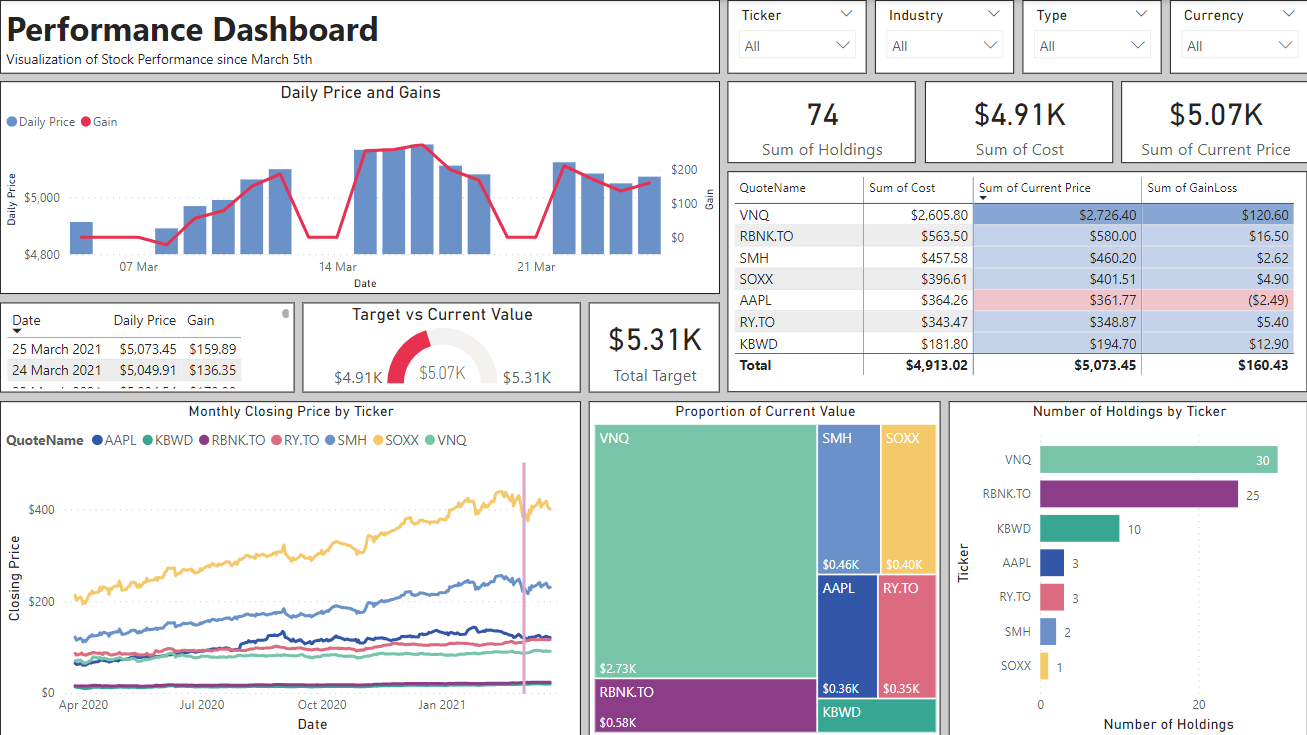

What the dashboard file says about the page in this screenshot:
{"tool":"powerbi","page":{"name":"Overview","canvas":[1280,720],"ordinal":0},"visuals":[{"type":"lineChart","title":"Monthly Closing Price by Ticker","fields":{"Category":["Sheet1.Date"],"Y":["Sum(Sheet1.Close)"],"Series":["Sheet1.QuoteName"]},"box":[0,392,568,328],"z":0},{"type":"clusteredBarChart","title":"Number of Holdings by Ticker","fields":{"Category":["holdings.QuoteName"],"Y":["Sum(holdings.Holdings)"]},"box":[928,392,352,328],"z":1000},{"type":"card","fields":{"Values":["Sum(holdings.Cost)"]},"box":[904,80,184,80],"z":2000},{"type":"card","fields":{"Values":["Sum(holdings.Holdings)"]},"box":[712,80,184,80],"z":3000},{"type":"card","fields":{"Values":["Sum(holdings.RecentCost)"]},"box":[1096,80,184,80],"z":4000},{"type":"slicer","fields":{"Values":["holdings.QuoteName"]},"box":[712,0,136,72],"z":5000},{"type":"treemap","title":"Proportion of Current Value","fields":{"Values":["Sum(holdings.RecentCost)"],"Group":["holdings.QuoteName"]},"box":[576,392,344,328],"z":6000},{"type":"tableEx","fields":{"Values":["holdings.QuoteName","Sum(holdings.Cost)","holdings.RecentCost","holdings.GainLoss"]},"box":[712,168,568,216],"z":7000},{"type":"slicer","fields":{"Values":["type.Industry"]},"box":[856,0,136,72],"z":8000},{"type":"slicer","fields":{"Values":["type.Type"]},"box":[1000,0,136,72],"z":9000},{"type":"slicer","fields":{"Values":["type.Currency"]},"box":[1144,0,136,72],"z":10000},{"type":"textbox","box":[0,0,704,72],"z":11000},{"type":"lineClusteredColumnComboChart","title":"Daily Price and Gains","fields":{"Category":["dailytrend.Date"],"Y":["Sum(dailytrend.Daily Price)"],"Y2":["Sum(dailytrend.Gain)"]},"box":[0,80,704,208],"z":12000},{"type":"tableEx","fields":{"Values":["dailytrend.Date","dailytrend.Daily Price","dailytrend.Gain"]},"box":[0,296,288,88],"z":13000},{"type":"gauge","title":"Target vs Current Value","fields":{"MinValue":["Sum(holdings.Cost)"],"Y":["Sum(holdings.Current Price)"],"MaxValue":["Sum(type.Total Target)"]},"box":[296,296,272,88],"z":14000},{"type":"card","fields":{"Values":["Sum(type.Total Target)"]},"box":[576,296,128,88],"z":15000}]}

Visuals, with their boxes in screenshot pixels (x1, y1, x2, y2), scaled from the page's 1280x720 canvas onto the 1307x735 screenshot:
"Monthly Closing Price by Ticker" lineChart: (left=0, top=400, right=580, bottom=734)
"Number of Holdings by Ticker" clusteredBarChart: (left=948, top=400, right=1306, bottom=734)
card - Sum(holdings.Cost): (left=923, top=82, right=1111, bottom=163)
card - Sum(holdings.Holdings): (left=727, top=82, right=915, bottom=163)
card - Sum(holdings.RecentCost): (left=1119, top=82, right=1306, bottom=163)
slicer - holdings.QuoteName: (left=727, top=0, right=866, bottom=74)
"Proportion of Current Value" treemap: (left=588, top=400, right=939, bottom=734)
tableEx - holdings.QuoteName x Sum(holdings.Cost): (left=727, top=172, right=1306, bottom=392)
slicer - type.Industry: (left=874, top=0, right=1013, bottom=74)
slicer - type.Type: (left=1021, top=0, right=1160, bottom=74)
slicer - type.Currency: (left=1168, top=0, right=1306, bottom=74)
textbox: (left=0, top=0, right=719, bottom=74)
"Daily Price and Gains" lineClusteredColumnComboChart: (left=0, top=82, right=719, bottom=294)
tableEx - dailytrend.Date x dailytrend.Daily Price: (left=0, top=302, right=294, bottom=392)
"Target vs Current Value" gauge: (left=302, top=302, right=580, bottom=392)
card - Sum(type.Total Target): (left=588, top=302, right=719, bottom=392)
